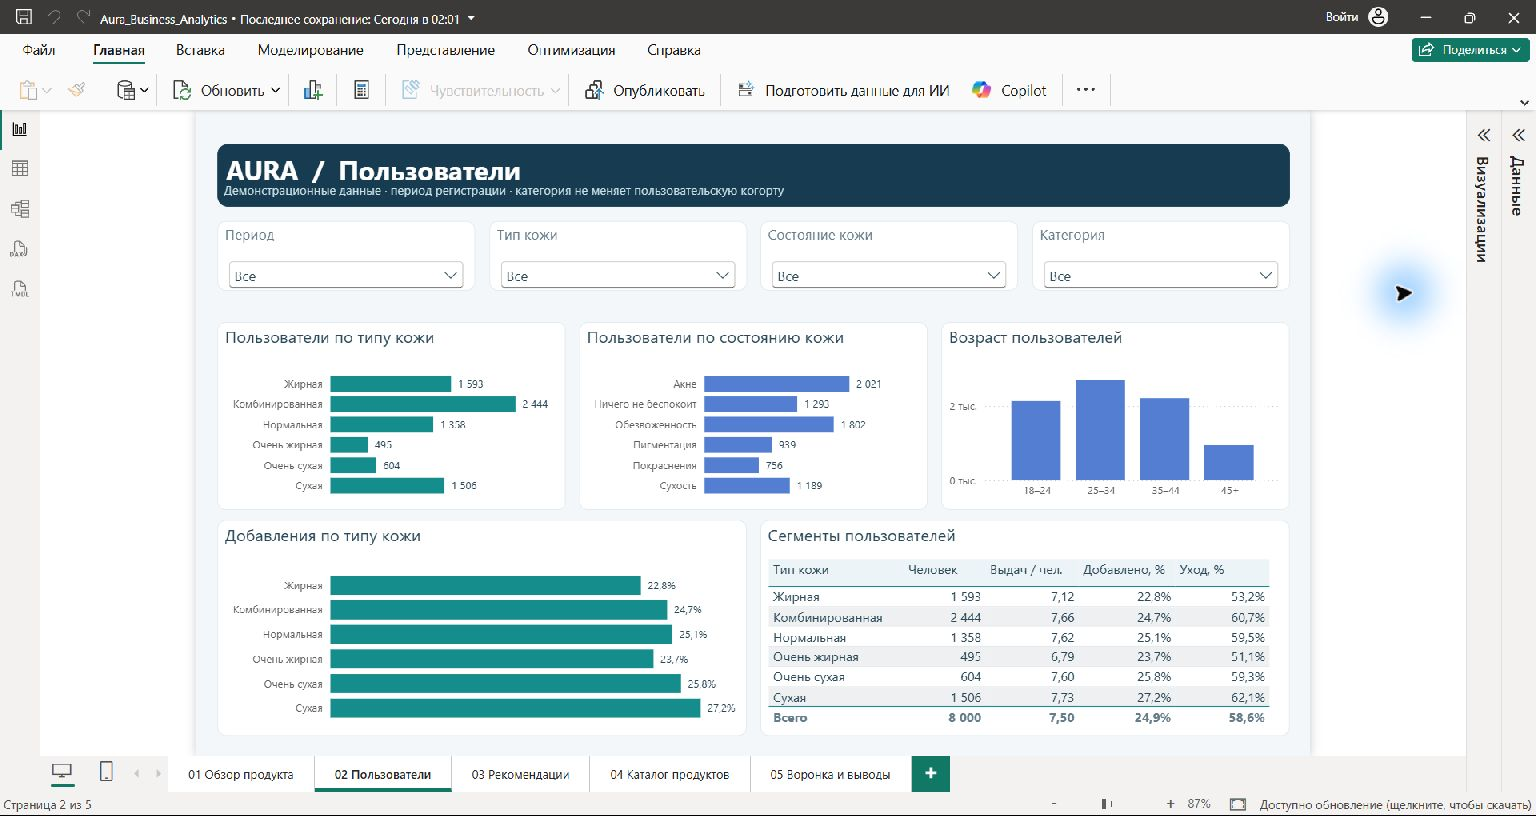

What the dashboard file says about the page in this screenshot:
{"tool":"powerbi","page":{"name":"02 Пользователи","canvas":[1280,720],"ordinal":1},"visuals":[{"type":"textbox","box":[24,16,1232,72],"z":0},{"type":"slicer","title":"Период","fields":{"Values":["Date.Месяц"]},"box":[24,104,296,80],"z":16},{"type":"slicer","title":"Тип кожи","fields":{"Values":["Users.skin_type"]},"box":[336,104,296,80],"z":17},{"type":"slicer","title":"Состояние кожи","fields":{"Values":["Users.skin_state"]},"box":[648,104,296,80],"z":18},{"type":"slicer","title":"Категория","fields":{"Values":["Products.Категория"]},"box":[960,104,296,80],"z":19},{"type":"clusteredBarChart","title":"Пользователи по типу кожи","fields":{"Category":["Users.skin_type"],"Y":["Users.Total Users"]},"box":[24,220,400,216],"z":20},{"type":"clusteredBarChart","title":"Пользователи по состоянию кожи","fields":{"Category":["Users.skin_state"],"Y":["Users.Total Users"]},"box":[440,220,400,216],"z":21},{"type":"clusteredColumnChart","title":"Возраст пользователей","fields":{"Category":["Users.age_group"],"Y":["Users.Total Users"]},"box":[856,220,400,216],"z":22},{"type":"clusteredBarChart","title":"Добавления по типу кожи","fields":{"Category":["Users.skin_type"],"Y":["Users.Recommendation Acceptance Rate"]},"box":[24,448,608,248],"z":23},{"type":"tableEx","title":"Сегменты пользователей","fields":{"Values":["Users.skin_type","Users.Total Users","Users.Average Recommendations per User","Users.Recommendation Acceptance Rate","Users.Routine Creation Rate"]},"box":[648,448,608,248],"z":24},{"type":"textbox","box":[26,52,1224,34],"z":100}]}

Visuals, with their boxes on the page's 1280x720 design canvas (x1, y1, x2, y2). These are canvas units, not pixel positions in the 1536x816 screenshot, which may show the page scaled, cropped or inside an application window:
textbox: {"left": 24, "top": 16, "right": 1256, "bottom": 88}
"Период" slicer: {"left": 24, "top": 104, "right": 320, "bottom": 184}
"Тип кожи" slicer: {"left": 336, "top": 104, "right": 632, "bottom": 184}
"Состояние кожи" slicer: {"left": 648, "top": 104, "right": 944, "bottom": 184}
"Категория" slicer: {"left": 960, "top": 104, "right": 1256, "bottom": 184}
"Пользователи по типу кожи" clusteredBarChart: {"left": 24, "top": 220, "right": 424, "bottom": 436}
"Пользователи по состоянию кожи" clusteredBarChart: {"left": 440, "top": 220, "right": 840, "bottom": 436}
"Возраст пользователей" clusteredColumnChart: {"left": 856, "top": 220, "right": 1256, "bottom": 436}
"Добавления по типу кожи" clusteredBarChart: {"left": 24, "top": 448, "right": 632, "bottom": 696}
"Сегменты пользователей" tableEx: {"left": 648, "top": 448, "right": 1256, "bottom": 696}
textbox: {"left": 26, "top": 52, "right": 1250, "bottom": 86}
